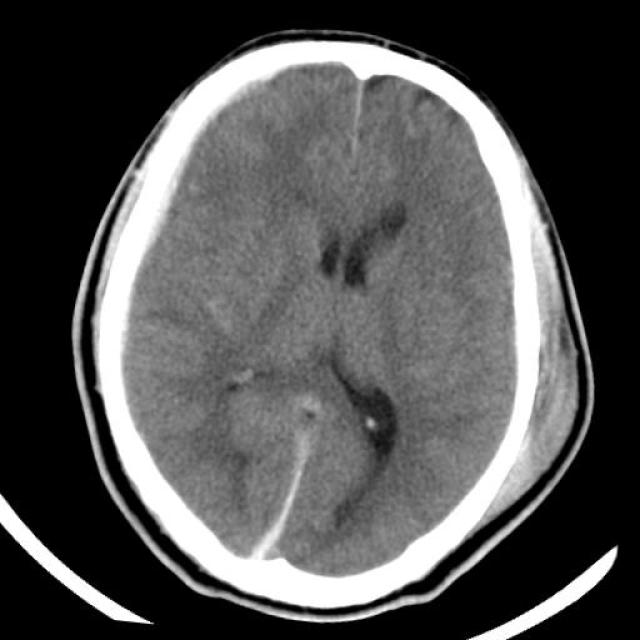Subdural: (102, 45, 286, 326), (202, 430, 342, 592)
